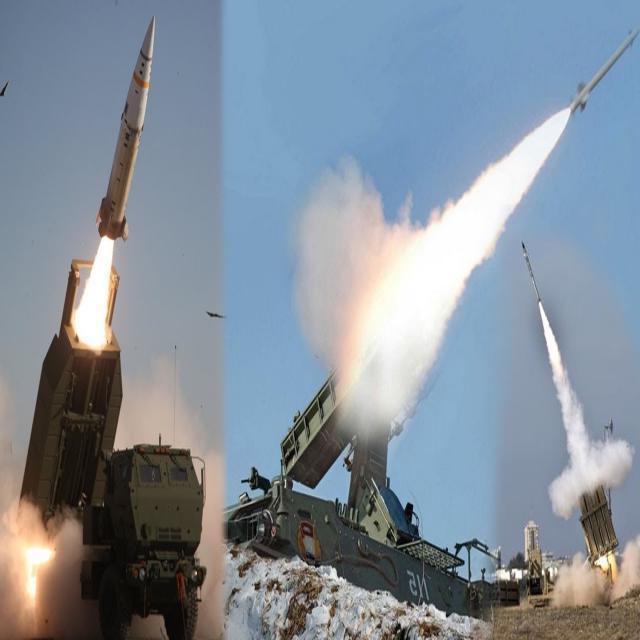Missile: (94, 5, 159, 247), (568, 26, 640, 119), (517, 235, 543, 309)
